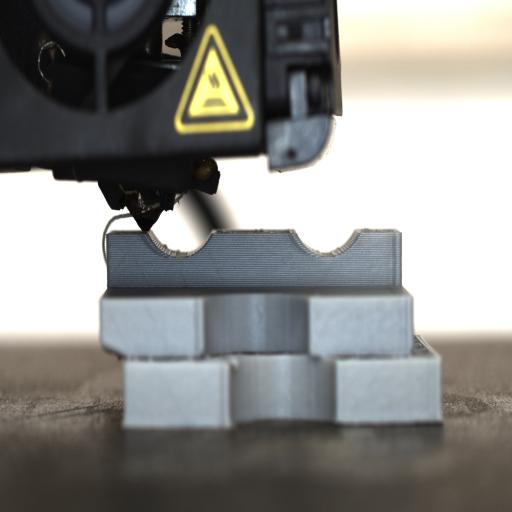layer_shift: (99, 338, 442, 371)
